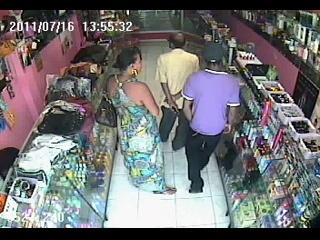Normal: (106, 46, 176, 195), (181, 42, 241, 194), (156, 32, 200, 151)
